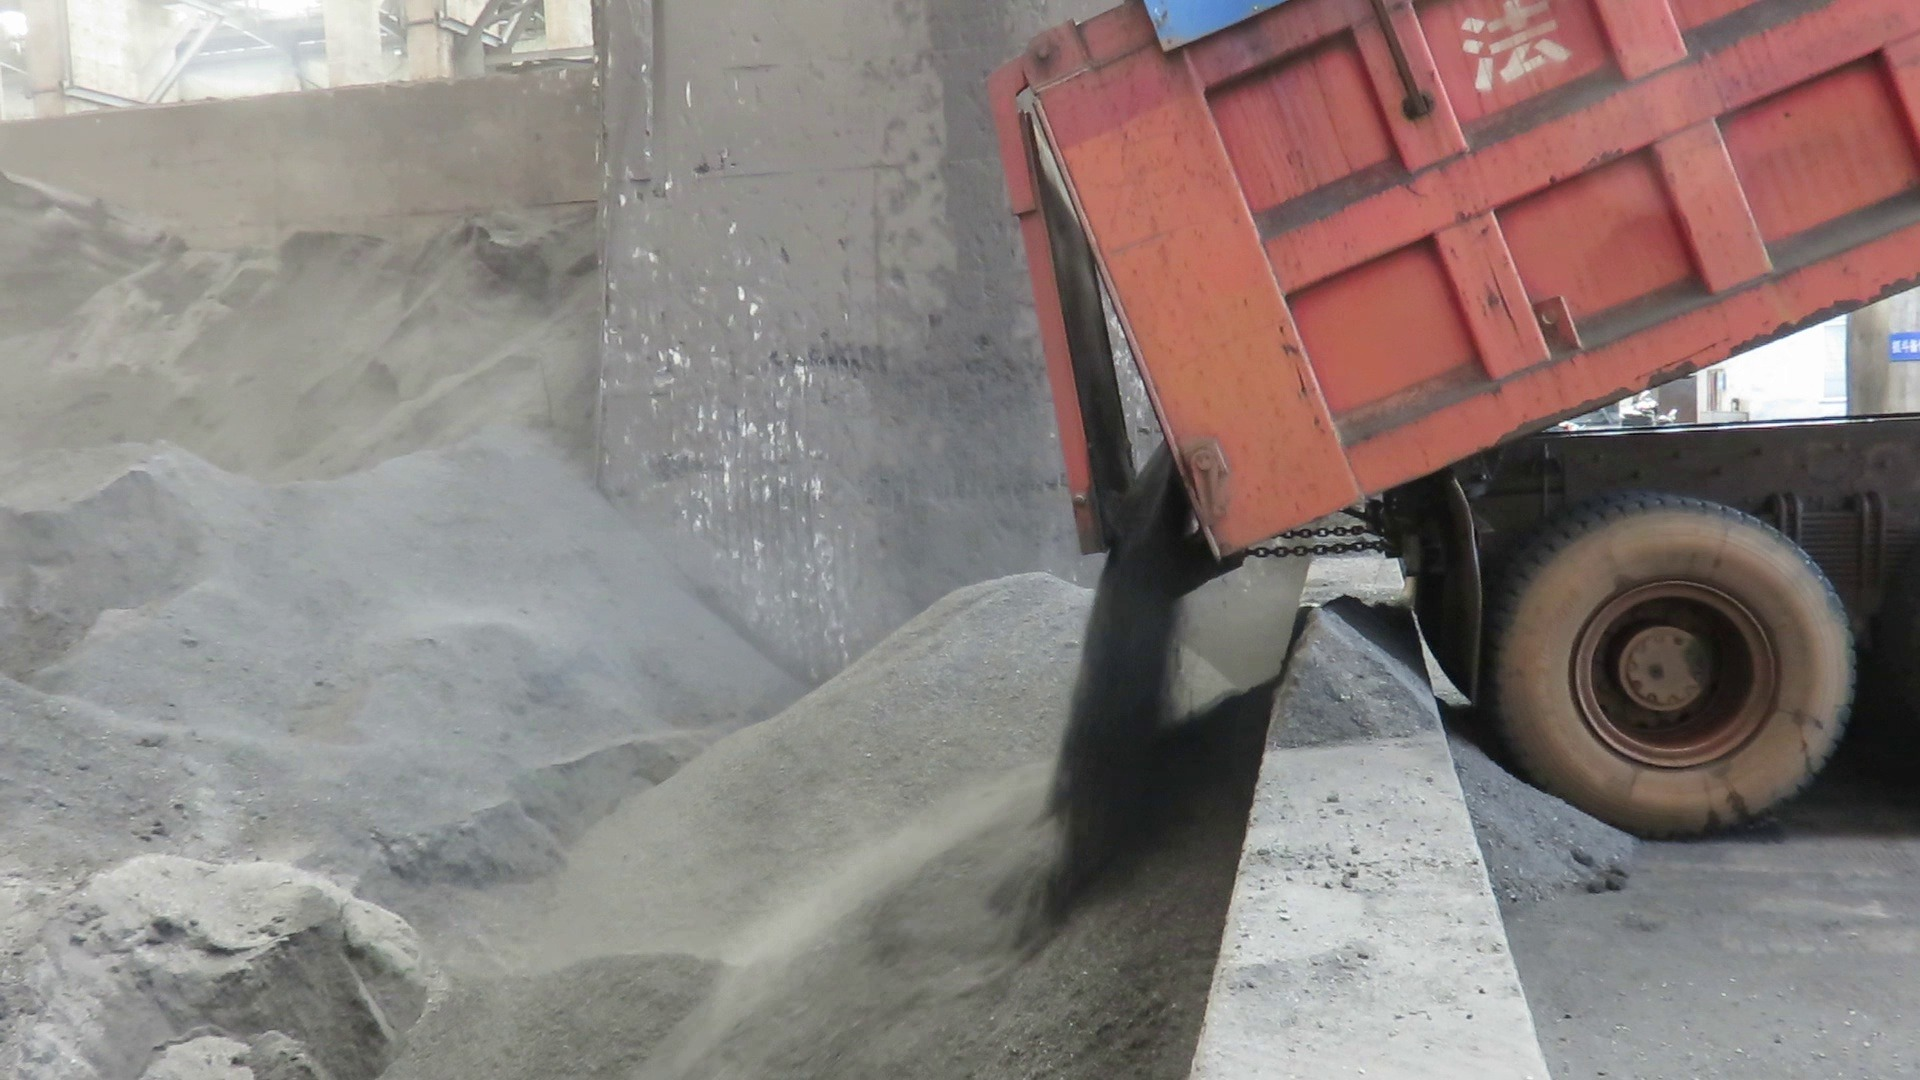dust: (15, 29, 1004, 866)
truck: (1001, 0, 1920, 855)
